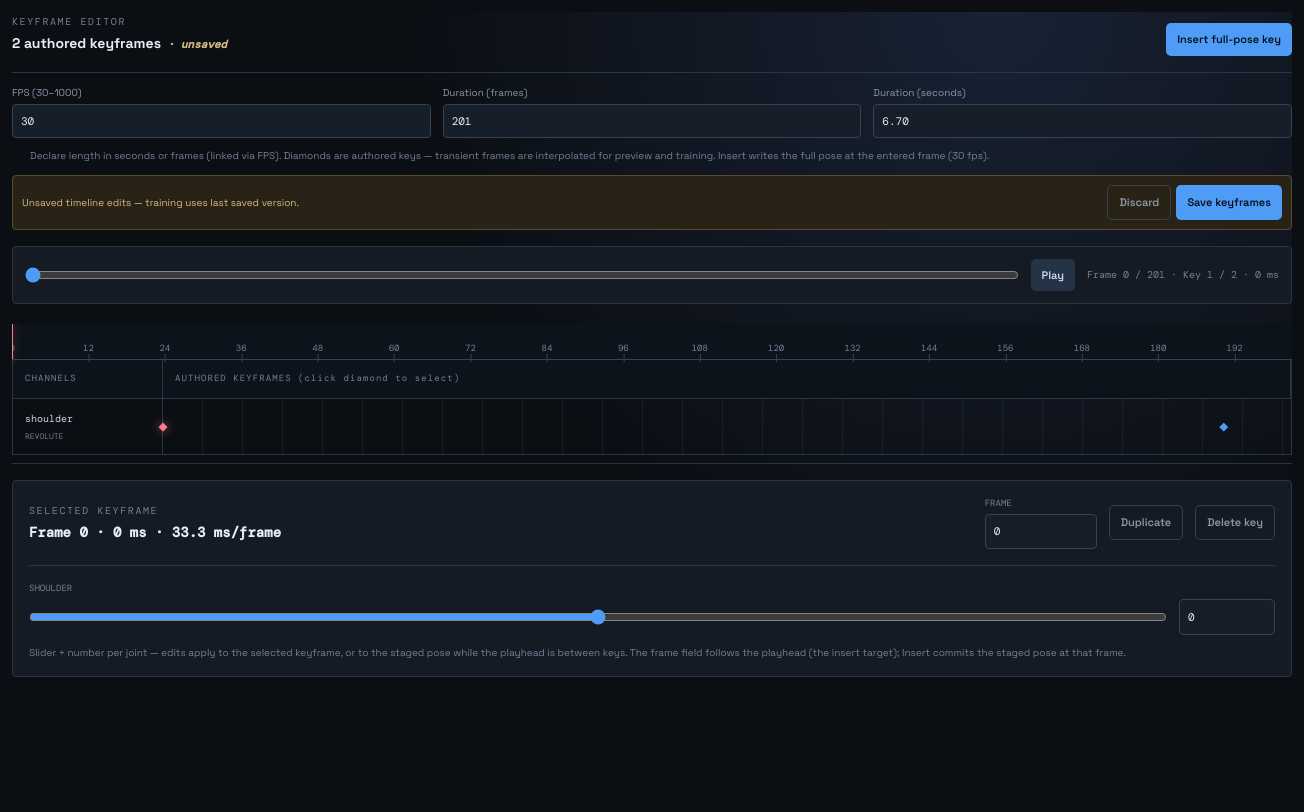
Test: TimelinePanel selected keypose flow › scrubbing to an empty frame and inserting keys at the playhead, never frame 0
This screenshot has width=1304, height=812.
Note: Scrub to empty frame 12 — the playhead pose becomes the staged pose.
Set the slider named "Scrub keyframes" to "12" at (91, 275), box top-left (25, 267), bottom-right (1018, 283)
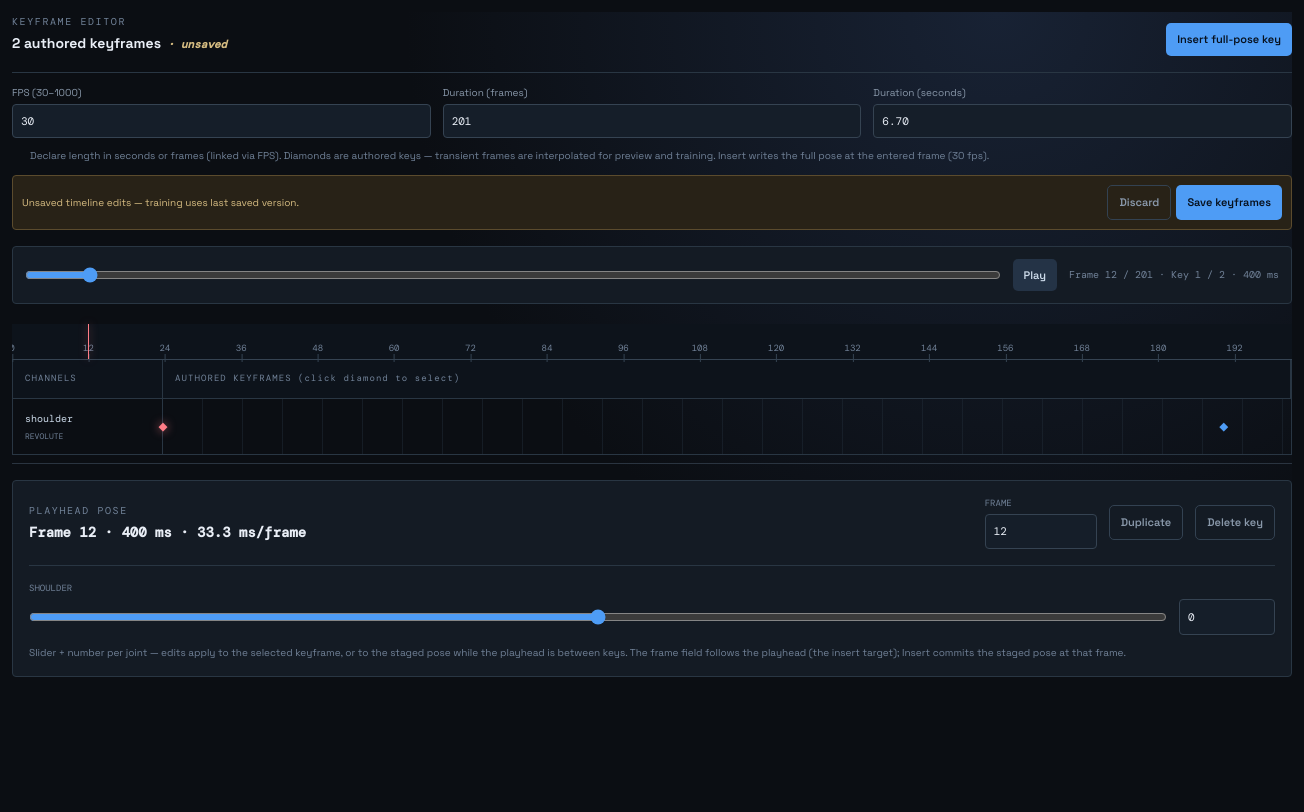
Replace the text in the number field named "shoulder at selected keyframe" with "0.5" at (1227, 617), box top-left (1179, 599), bottom-right (1275, 635)
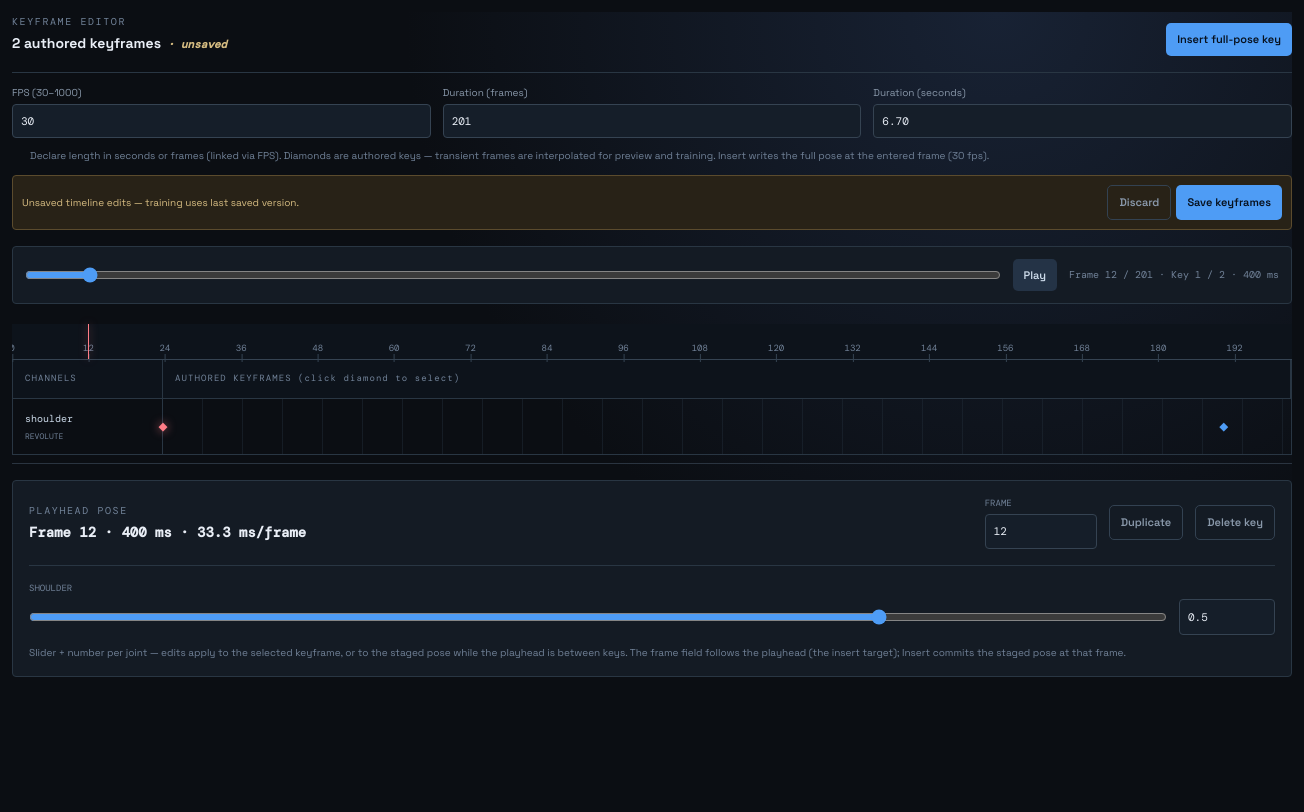
Click the button "Insert full-pose key" at (1229, 39), box top-left (1166, 23), bottom-right (1292, 56)
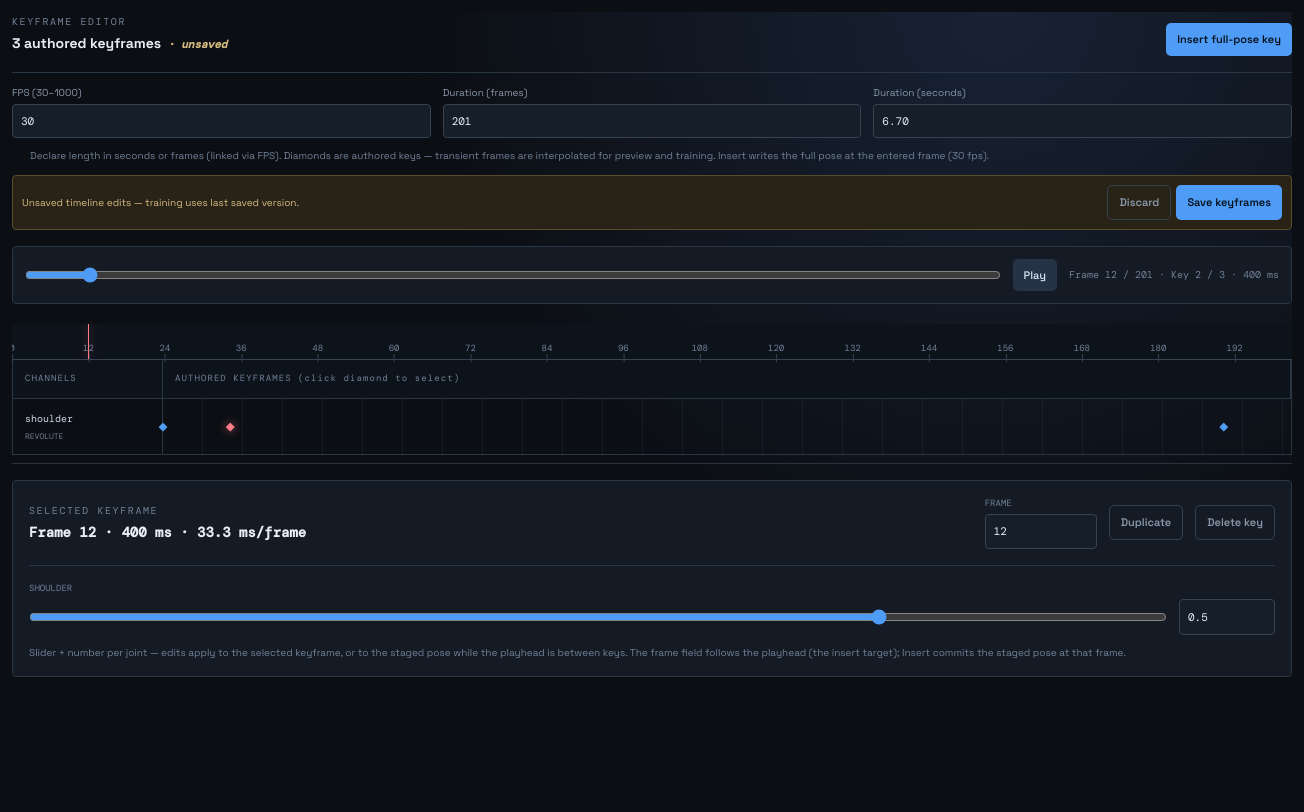
Expected: the text "Frame 12 / 201 · Key 2 / 3 · 400 ms" is shown, top-left (1069, 267), bottom-right (1279, 282)
Expected: the button named "Keyframe 2 at frame 12 for shoulder" is shown, top-left (222, 414), bottom-right (239, 438)
Note: Frame 0 keeps its original pose.
Click the button named "Keyframe 1 at frame 0 for shoulder" at (163, 426), box top-left (154, 414), bottom-right (172, 438)
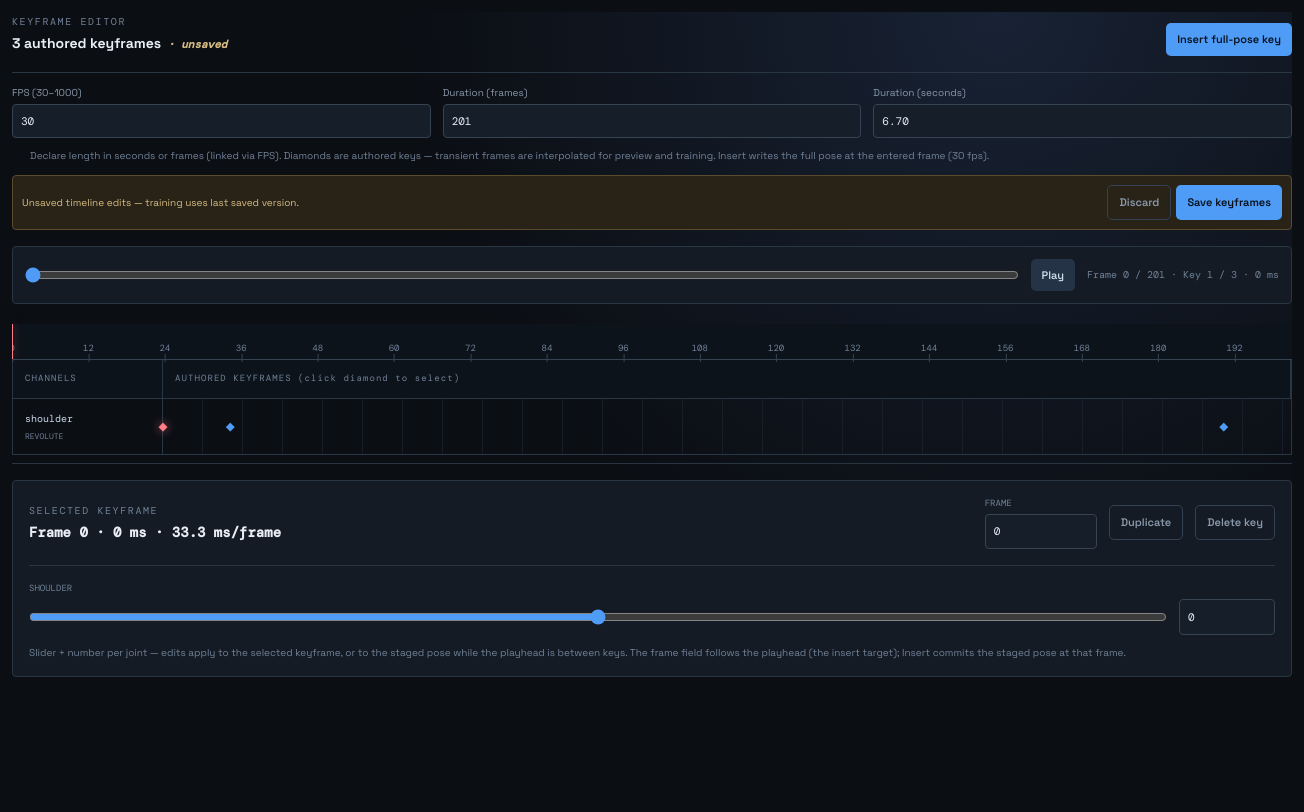
Expected: the number field named "shoulder at selected keyframe" holds "0", top-left (1179, 599), bottom-right (1275, 635)
